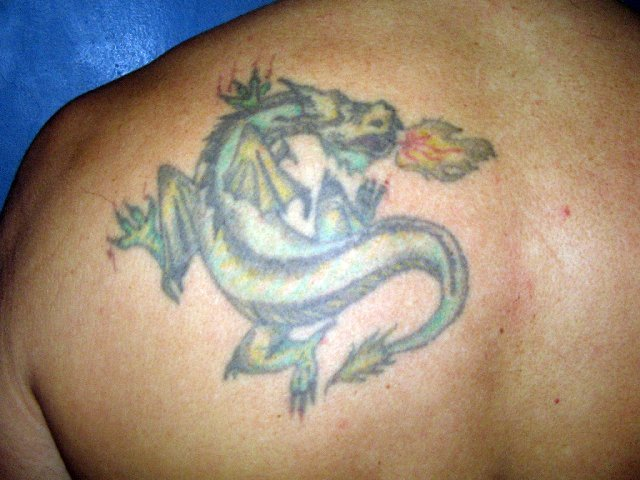tatu6_drakon: (87, 23, 510, 413)
